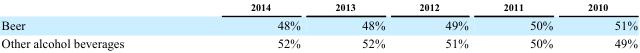table: (0, 1, 636, 50)
table column: (0, 1, 186, 50), (186, 1, 317, 50), (317, 1, 401, 50), (401, 1, 485, 50), (485, 1, 569, 50), (569, 1, 636, 50)
table column header: (0, 1, 636, 14)
table row: (0, 14, 636, 33), (0, 33, 636, 50), (0, 1, 636, 14)
